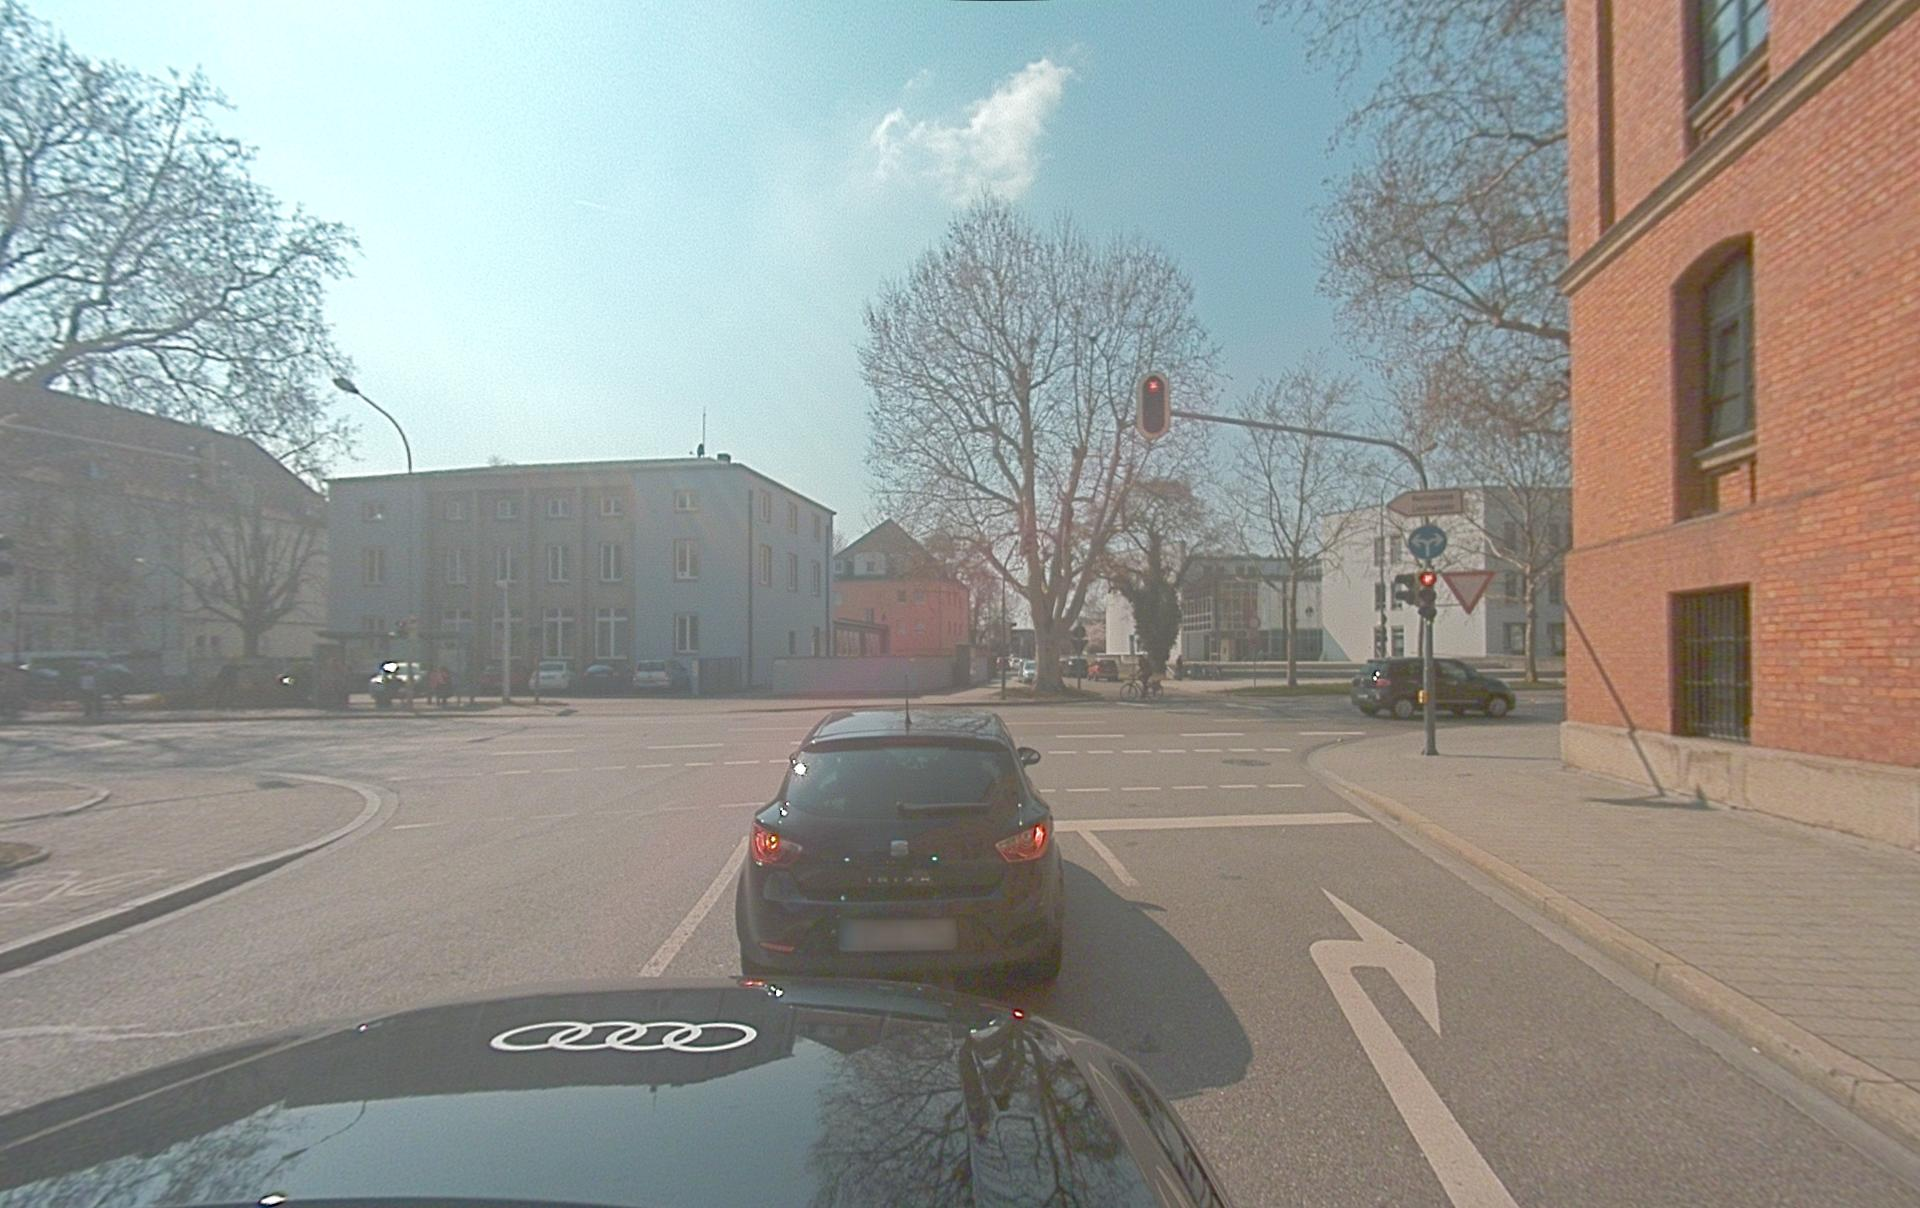car: (0, 977, 1237, 1208), (735, 707, 1066, 982), (1351, 657, 1516, 719), (369, 660, 426, 708), (633, 659, 690, 691), (528, 659, 574, 693), (1020, 660, 1037, 684)
traffic sign: (1387, 487, 1465, 517), (1406, 524, 1448, 560)
